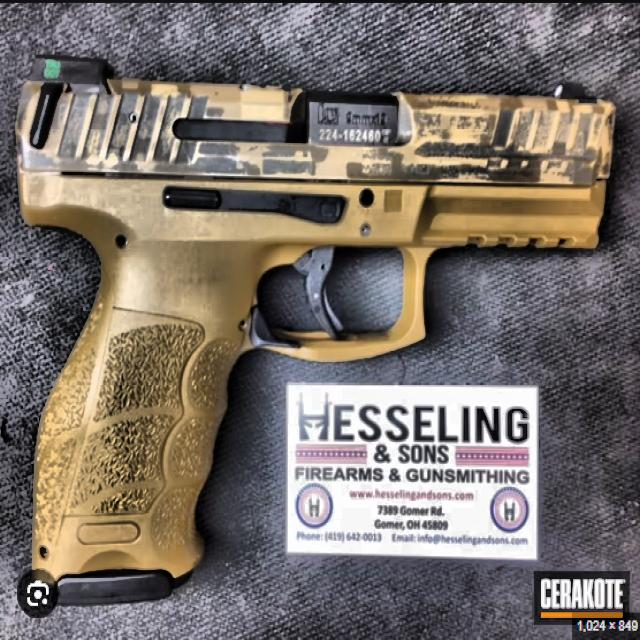HKVP9: (11, 51, 617, 615)
